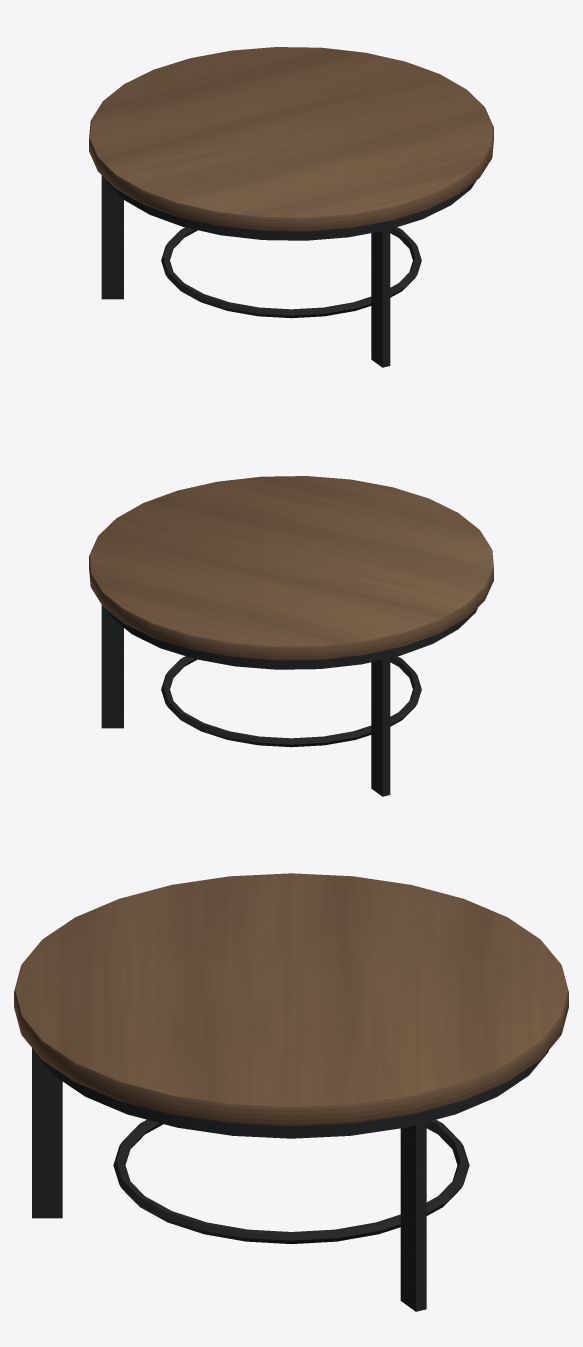
File: lounge_coffee_table.glb
3 views of the same model, one above another, from view 1: azimuth 30°, elevation 25°; view 2: azimuth 150°, elevation 25°; view 3: azimuth 270°, elevation 25° (orthographic). The views are drawn at different scales.
Parts seen in each view (by area): view 1: Top, Support_Ring, Band, Leg_03, Leg_02; view 2: Top, Support_Ring, Band, Leg_02, Leg_01; view 3: Top, Support_Ring, Band, Leg_01, Leg_03.
Boxes of the visible parts, <box> form: Top: <box>89,47,493,231</box>; Support_Ring: <box>161,227,421,318</box>; Band: <box>105,179,476,240</box>; Leg_03: <box>371,229,390,367</box>; Leg_02: <box>101,175,123,299</box>; Top: <box>89,476,493,660</box>; Support_Ring: <box>161,656,421,747</box>; Band: <box>106,608,477,669</box>; Leg_02: <box>371,658,390,796</box>; Leg_01: <box>101,605,123,728</box>; Top: <box>14,873,568,1126</box>; Support_Ring: <box>113,1119,469,1243</box>; Band: <box>34,1050,548,1138</box>; Leg_01: <box>400,1122,426,1311</box>; Leg_03: <box>32,1048,62,1218</box>.
Size of the model in its own units: 1 by 0.45 by 1.
3 materials, 2 textured.
